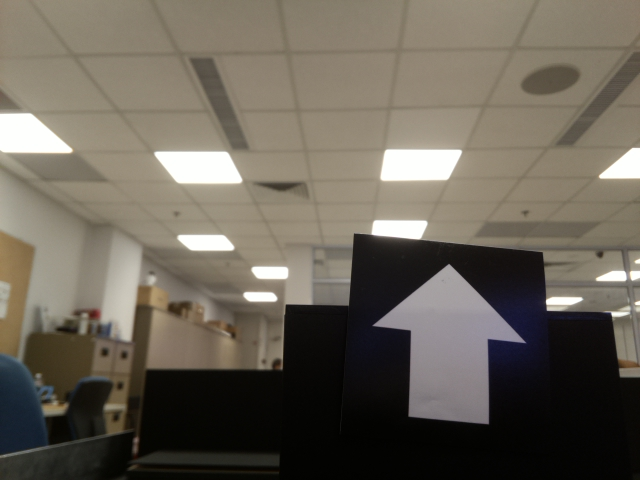up: (369, 253, 527, 431)
